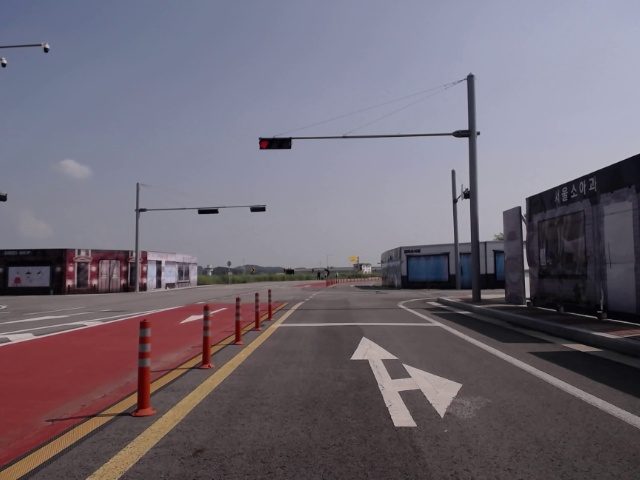red_3: (260, 139, 291, 149)
